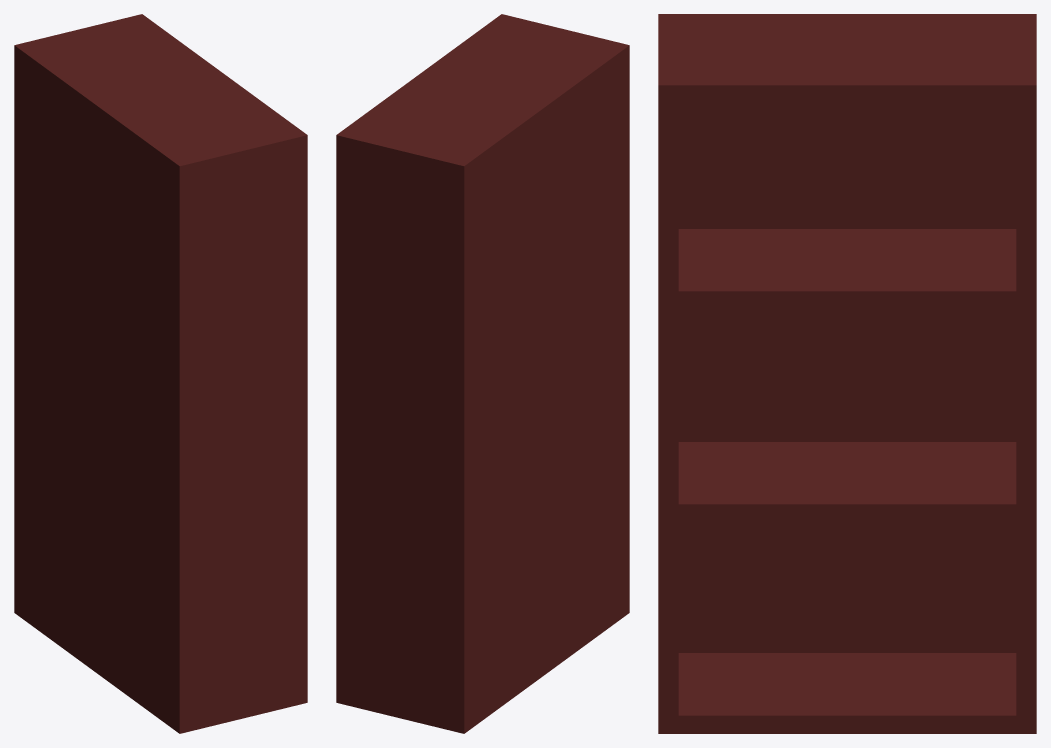
3 renders of one model, left to right at view 1: azimuth 30°, elevation 25°; view 2: azimuth 150°, elevation 25°; view 3: azimuth 270°, elevation 25°, orthographic. The views are drawn at different scales.
Parts seen in each view (by area): view 1: 立方体, 立方体.001, 立方体.004, 立方体.002, 立方体.005; view 2: 立方体, 立方体.002, 立方体.004, 立方体.001, 立方体.005; view 3: 立方体, 立方体.004, 立方体.005, 立方体.006, 立方体.007, 立方体.001, 立方体.002.
Part boxes in pixels (x1,y1,x2,y2): 立方体: (23,68,170,710); 立方体.001: (171,151,307,717); 立方体.004: (14,14,307,182); 立方体.002: (14,61,23,602); 立方体.005: (14,597,307,733); 立方体: (473,68,620,710); 立方体.002: (336,151,472,717); 立方体.004: (336,14,629,182); 立方体.001: (620,61,629,602); 立方体.005: (336,597,629,733); 立方体: (678,103,1016,652); 立方体.004: (658,14,1036,103); 立方体.005: (658,653,1036,733); 立方体.006: (678,229,1016,309); 立方体.007: (678,442,1016,522); 立方体.001: (658,103,678,715); 立方体.002: (1016,103,1036,715).
Bounding box in the file's own units: 25 × 106 × 56.
